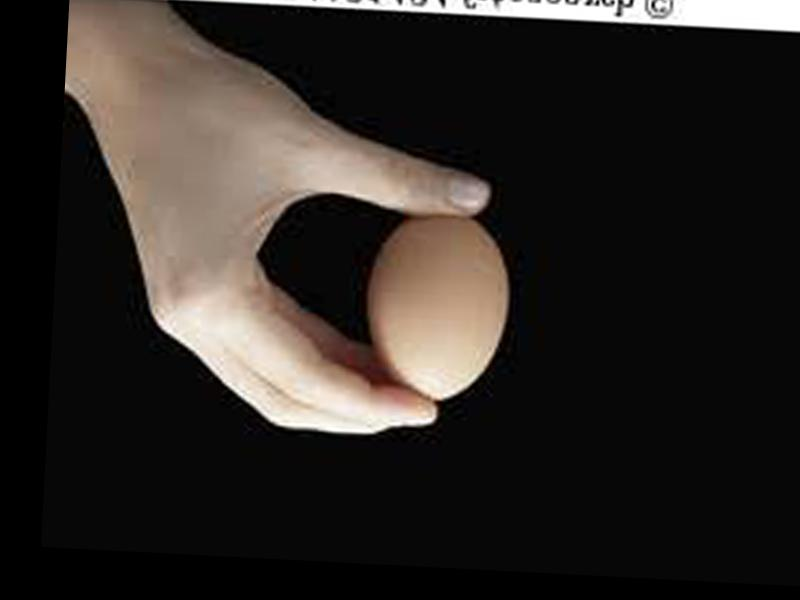Eggs: (363, 210, 511, 409)
